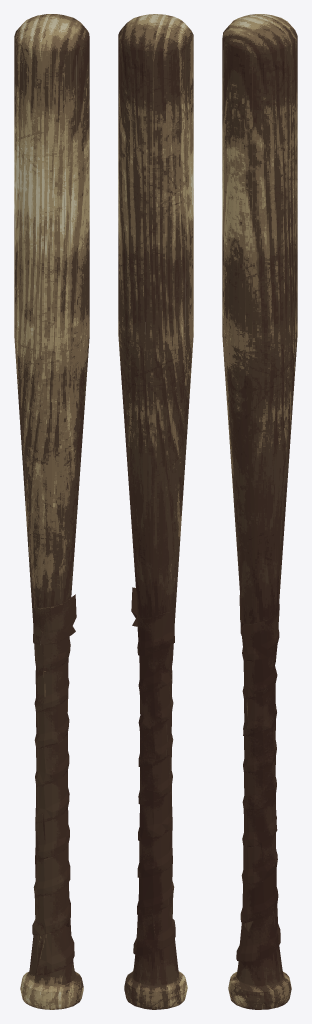
Rendered from bat.glb.
3 renders of one model, left to right at view 1: azimuth 30°, elevation 25°; view 2: azimuth 210°, elevation 25°; view 3: azimuth 270°, elevation 25°, orthographic.
Parts seen in each view (by area): view 1: model_m; view 2: model_m; view 3: model_m.
Boxes of the visible parts, x1,y1,x2,y2 form: model_m: (14, 14, 89, 1009); model_m: (118, 14, 193, 1009); model_m: (222, 14, 297, 1009).
Size of the model in its own units: 34.63 by 498 by 34.63.
Materials: 1 (1 with a texture image).
